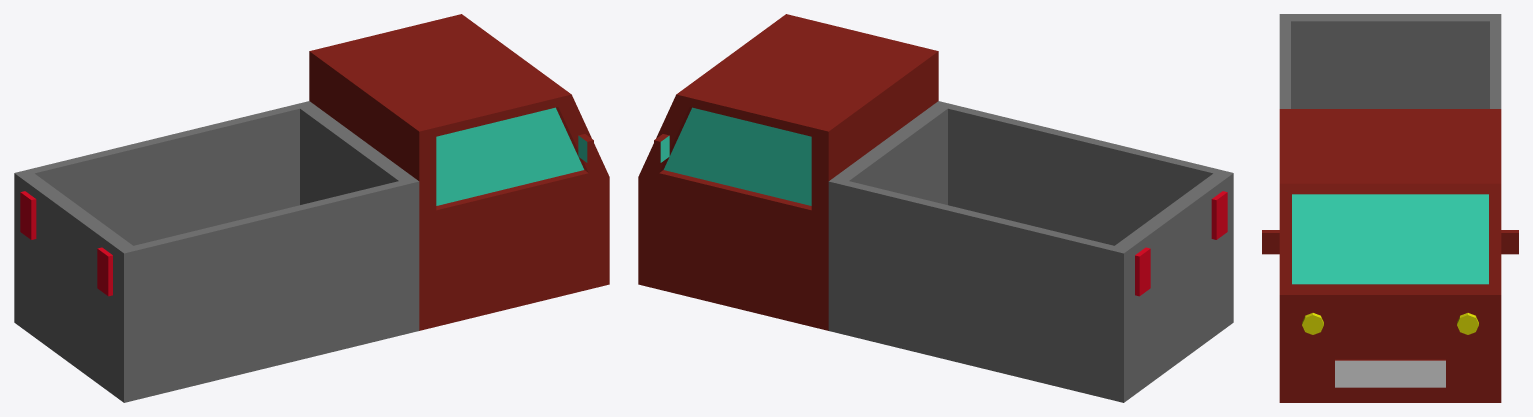
File: truck2.glb
The picture shows the model from 3 angles, left to right: view 1: azimuth 30°, elevation 25°; view 2: azimuth 150°, elevation 25°; view 3: azimuth 270°, elevation 25°; orthographic projection.
Visible parts, largest first — view 1: Cube.003, Cube, Cube.001, Cube.004; view 2: Cube.003, Cube, Cube.004, Cube.001; view 3: Cube, Cube.003, Cube.002, Cylinder, Cylinder.001.
Part boxes in pixels (box(x1,y1,x2,y2)): Cube.003: box(14, 101, 419, 402); Cube: box(309, 14, 609, 330); Cube.001: box(20, 191, 36, 239); Cube.004: box(97, 247, 112, 296); Cube.003: box(828, 101, 1233, 402); Cube: box(638, 14, 938, 330); Cube.004: box(1211, 191, 1227, 239); Cube.001: box(1135, 247, 1150, 296); Cube: box(1279, 109, 1501, 402); Cube.003: box(1279, 14, 1501, 108); Cube.002: box(1262, 230, 1518, 254); Cylinder: box(1457, 313, 1478, 334); Cylinder.001: box(1302, 313, 1323, 334).
Size of the model in its own units: 2.6 by 1 by 1.16.
